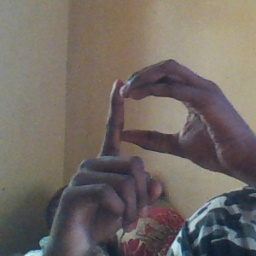P: (67, 46, 226, 223)
